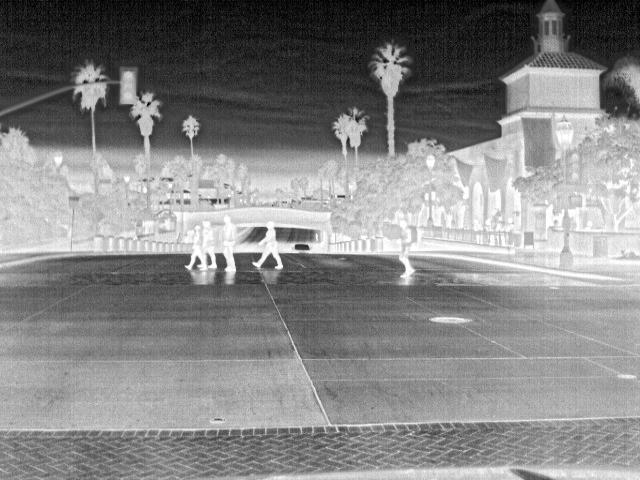car: (292, 242, 315, 254)
person: (252, 221, 287, 268), (220, 213, 240, 275), (396, 214, 415, 279), (197, 219, 218, 269), (185, 227, 207, 271), (503, 218, 518, 234), (495, 214, 508, 232), (484, 216, 496, 230), (472, 218, 484, 230)
